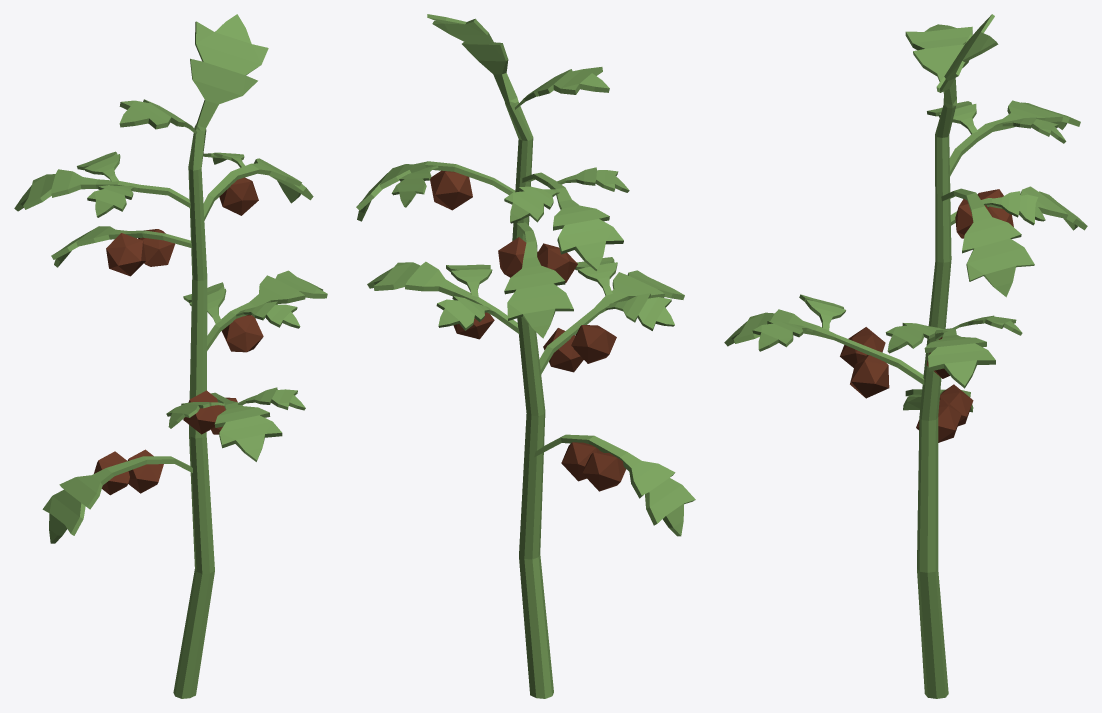
The model's file is Tomato_4.gltf.
3 views of the same model, side by side, from view 1: azimuth 30°, elevation 25°; view 2: azimuth 150°, elevation 25°; view 3: azimuth 270°, elevation 25° (orthographic). The views are drawn at different scales.
Visible parts, largest first — view 1: Tomato_4; view 2: Tomato_4; view 3: Tomato_4.
Boxes of the visible parts, left/top/right/bottom form: Tomato_4: left=14, top=14, right=327, bottom=698; Tomato_4: left=356, top=14, right=695, bottom=698; Tomato_4: left=724, top=14, right=1087, bottom=698.
Bounding box in the file's own units: 0.7932 × 1.72 × 0.81.
